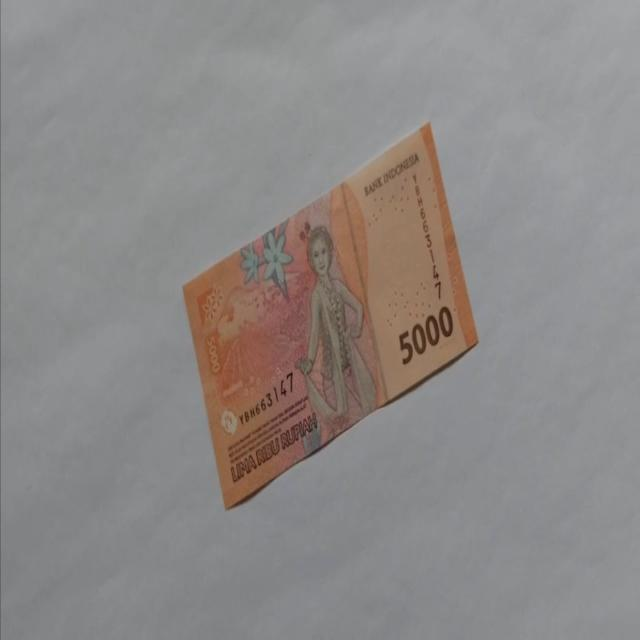lima ribu rupiah: (182, 120, 478, 510)
